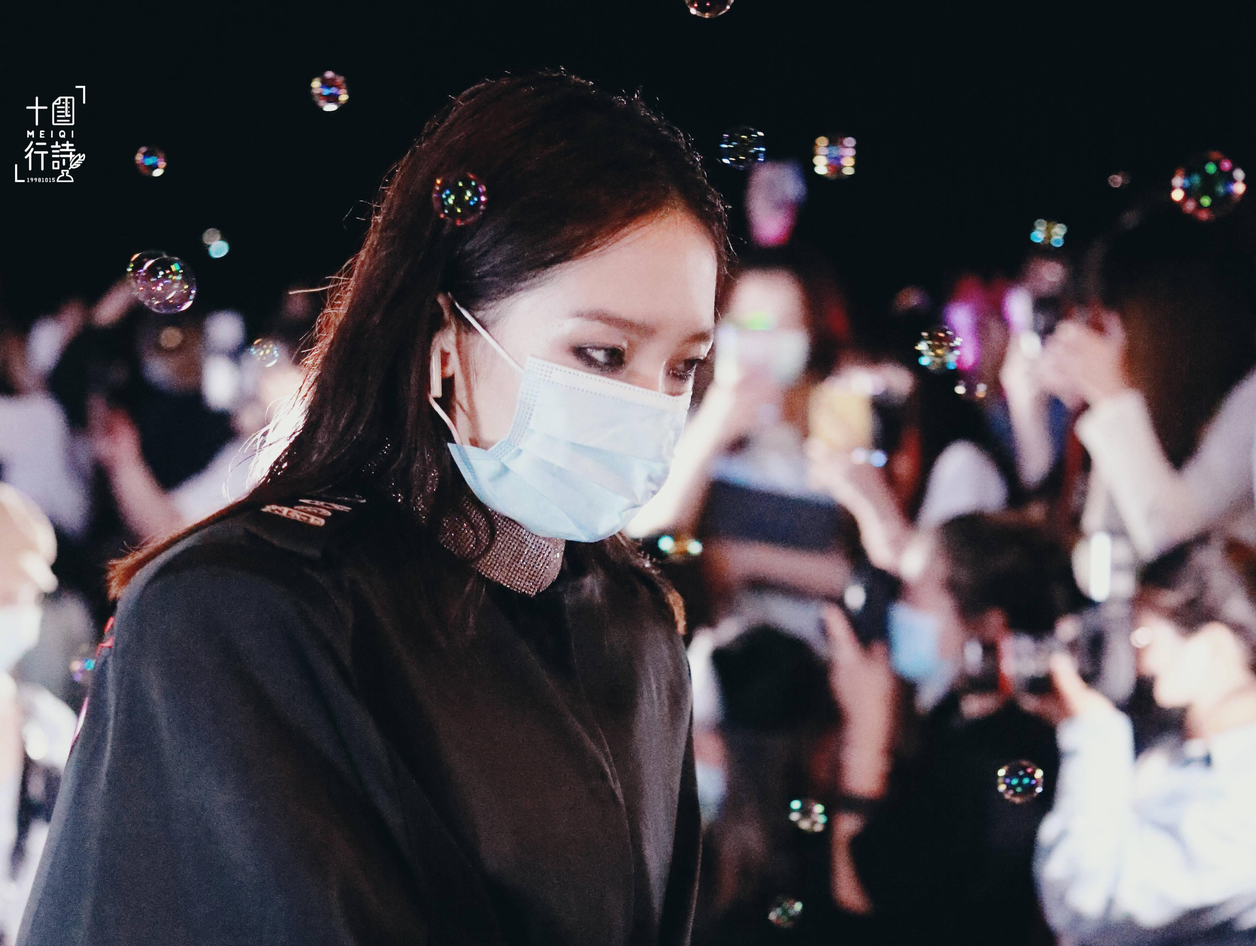OK: (482, 273, 715, 542)
